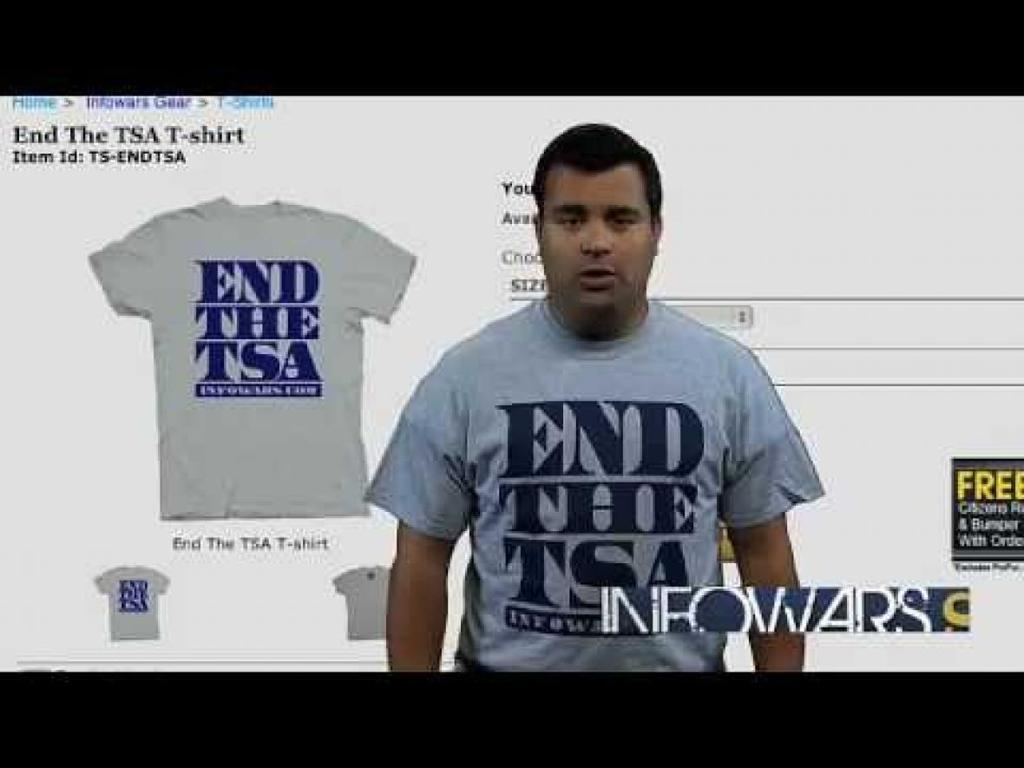face: (552, 170, 644, 316)
